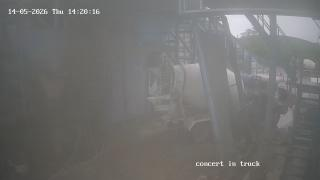cement_mixer_truck: (145, 52, 290, 148)
